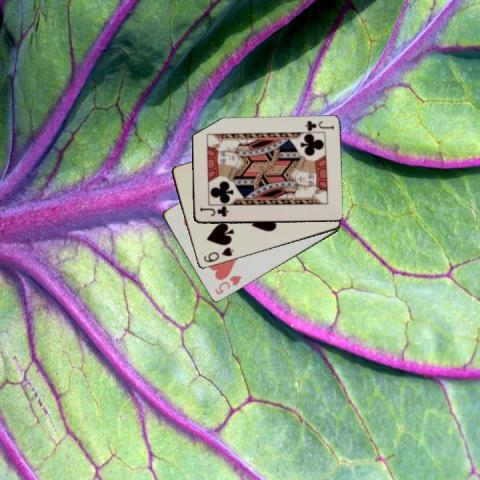5h: (212, 273, 244, 296)
6s: (200, 245, 234, 264)
Jc: (302, 118, 335, 133), (198, 205, 229, 218)
